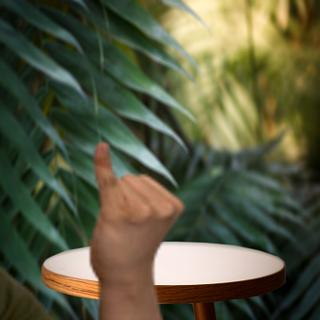FINE: (86, 138, 188, 291)
